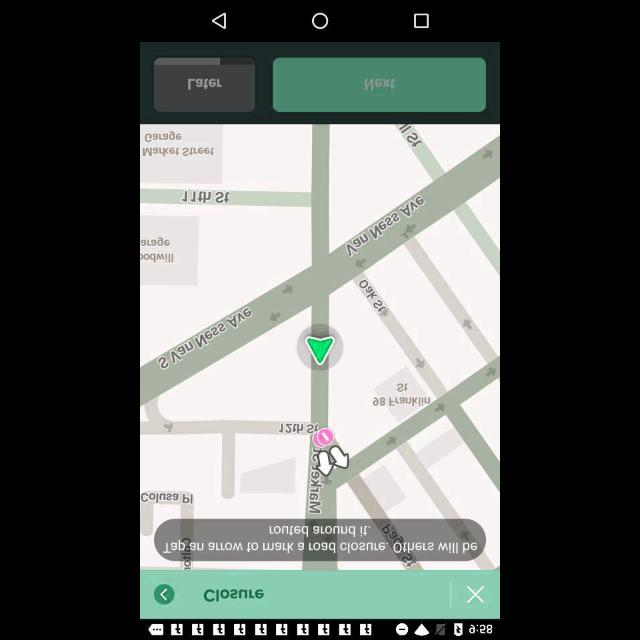icon: (462, 583, 486, 607), (152, 584, 175, 606), (310, 12, 328, 30), (413, 12, 431, 28), (214, 13, 228, 29)
map: (142, 42, 498, 568)
panel: (141, 2, 499, 40)
text: (202, 586, 266, 602), (187, 76, 223, 90), (365, 77, 397, 91)
textbutton: (274, 58, 486, 112), (154, 58, 256, 112)
toolbar: (142, 570, 498, 618)
uppertaskbar: (141, 618, 499, 640)
